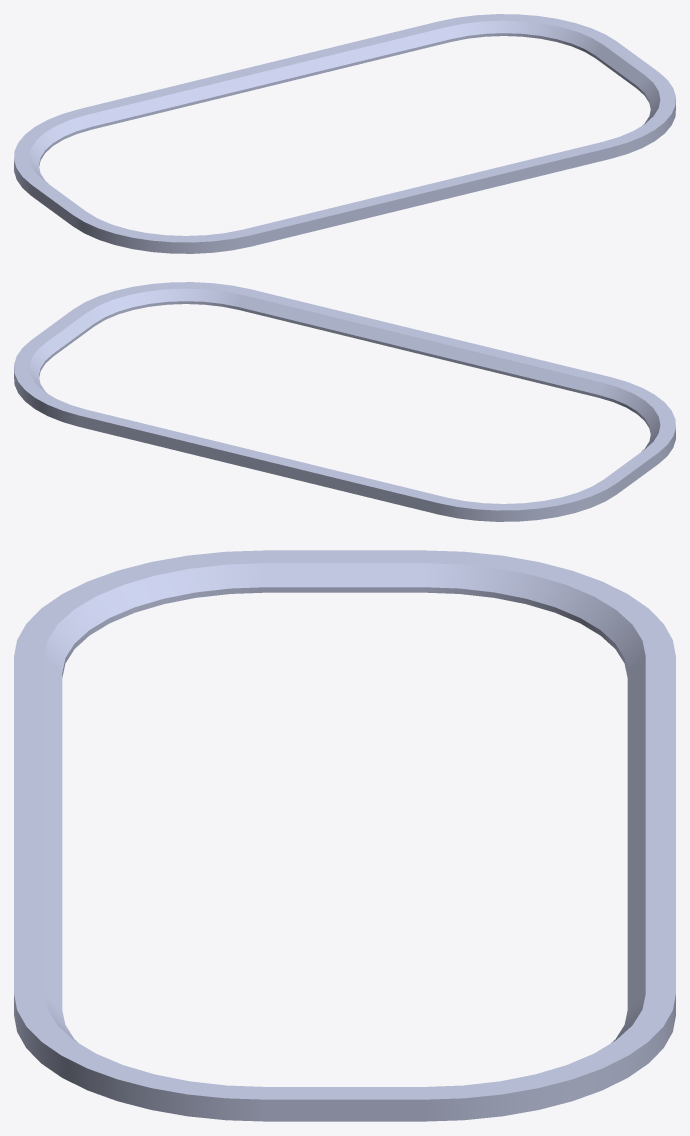
File: Track2OuterBoundary.obj
The picture shows the model from 3 angles, top to bottom: view 1: azimuth 30°, elevation 25°; view 2: azimuth 150°, elevation 25°; view 3: azimuth 270°, elevation 25°; orthographic projection. The views are drawn at different scales.
Parts seen in each view (by area): view 1: mesh 1 Track2OuterBoundary; view 2: mesh 1 Track2OuterBoundary; view 3: mesh 1 Track2OuterBoundary.
Part boxes in pixels (x1,y1,x2,y2): mesh 1 Track2OuterBoundary: (14, 14, 675, 253); mesh 1 Track2OuterBoundary: (14, 282, 675, 521); mesh 1 Track2OuterBoundary: (14, 550, 675, 1121).
Bounding box in the file's own units: 0.1367 × 0.00254 × 0.0696.
